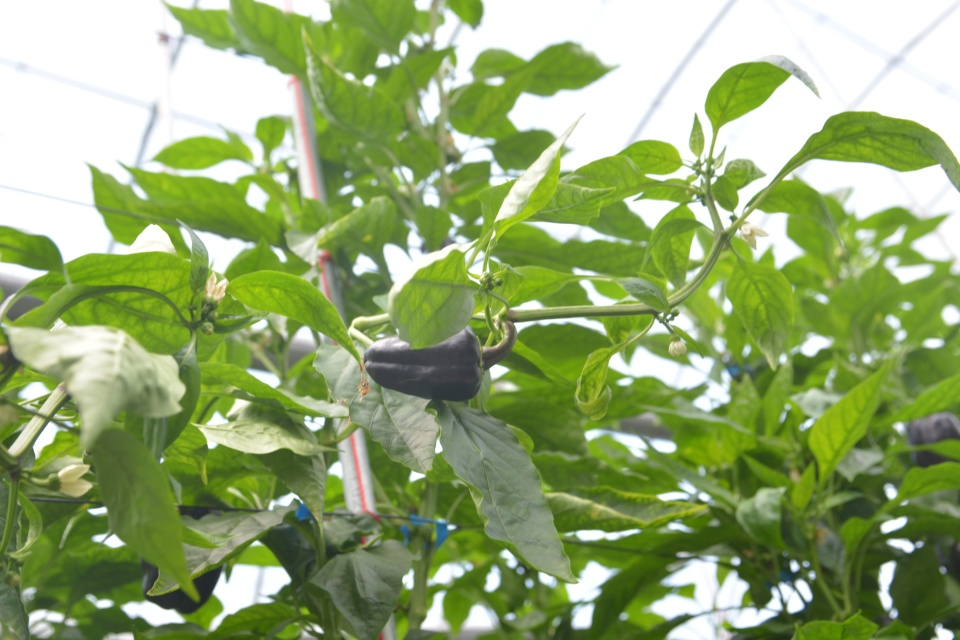flower: (54, 460, 96, 500), (203, 265, 229, 306), (738, 220, 771, 250)
fruit: (360, 324, 486, 404), (140, 500, 224, 616), (906, 412, 960, 470)
pedicle: (477, 336, 485, 381)
